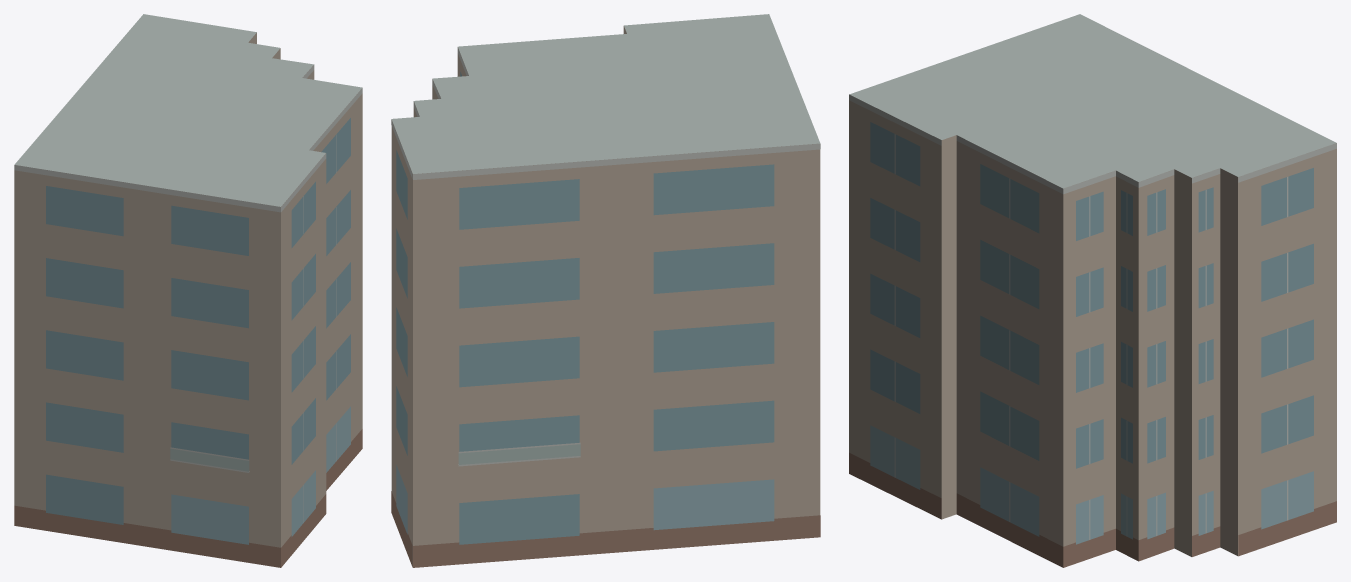
The model's file is survey-upis-32848159.glb.
3 views of the same model, side by side, from view 1: azimuth 30°, elevation 25°; view 2: azimuth 150°, elevation 25°; view 3: azimuth 270°, elevation 25° (orthographic). The views are drawn at different scales.
Parts seen in each view (by area): view 1: survey-upis-32848159.tmp; view 2: survey-upis-32848159.tmp; view 3: survey-upis-32848159.tmp.
Part boxes in pixels (box(x1,y1,x2,y2)): survey-upis-32848159.tmp: box(14, 14, 362, 567); survey-upis-32848159.tmp: box(391, 14, 820, 567); survey-upis-32848159.tmp: box(849, 14, 1336, 567).
Bounding box in the file's own units: 15.9 × 16.1 × 18.77.
